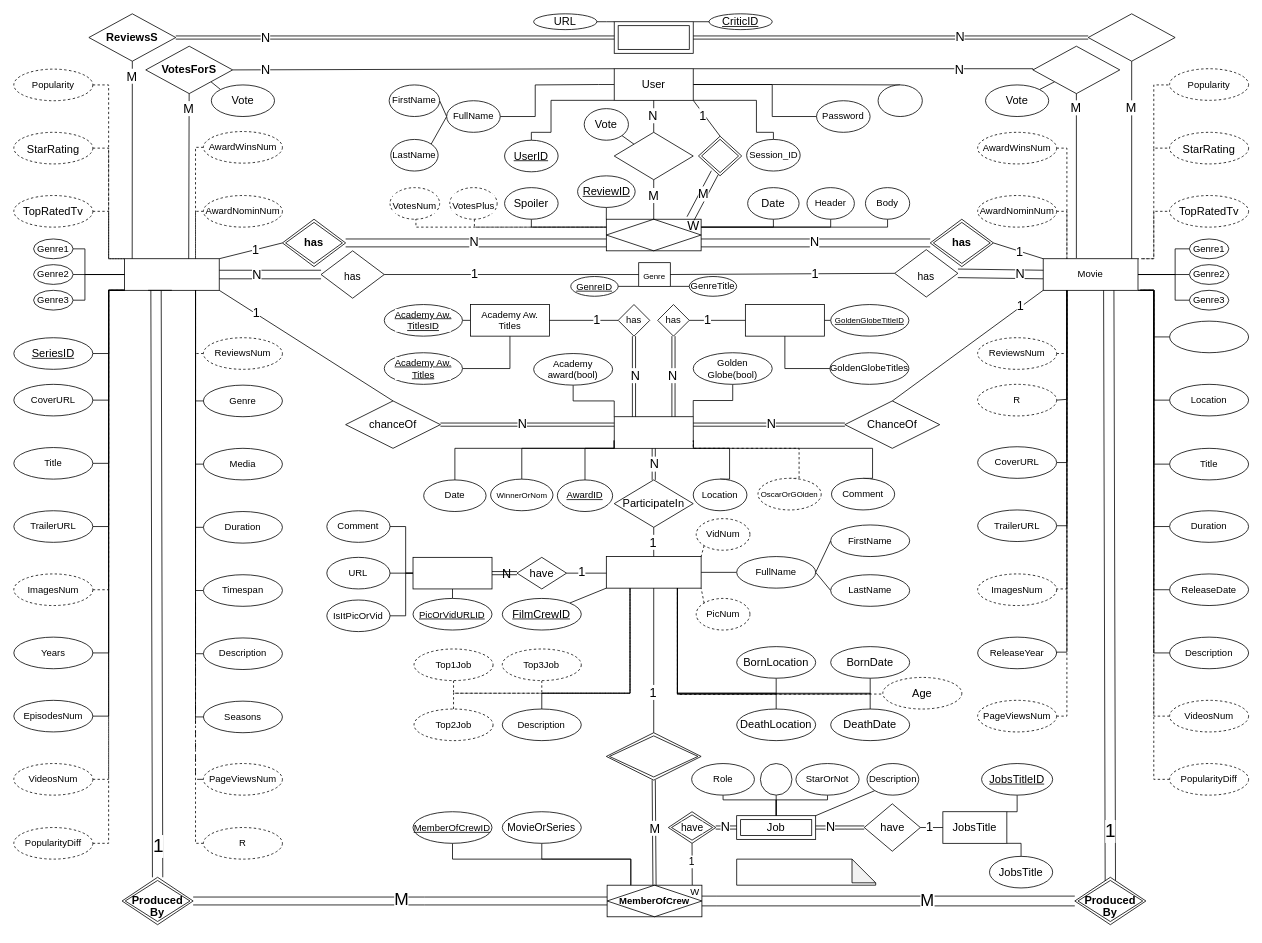
Image size: 1262x943. Some labels were removed from this diagram. The centre of each missing label's shape, as x and y in pixels:
Award: (x=653, y=432)
Critic: (x=653, y=37)
Email: (x=899, y=100)
FilmCrew: (x=653, y=572)
GoldenGlobe Titles: (x=784, y=320)
JobID: (x=776, y=779)
make: (x=720, y=155)
MovieID: (x=1209, y=336)
ParticipatesAs: (x=653, y=756)
PicOrVidURL: (x=452, y=573)
Review: (x=653, y=234)
ReviewsM: (x=1131, y=37)
RoleOnlyAvailableWhenActor: (x=806, y=871)
Series: (x=171, y=274)
UsersVote: (x=653, y=156)
VotesForM: (x=1076, y=69)
